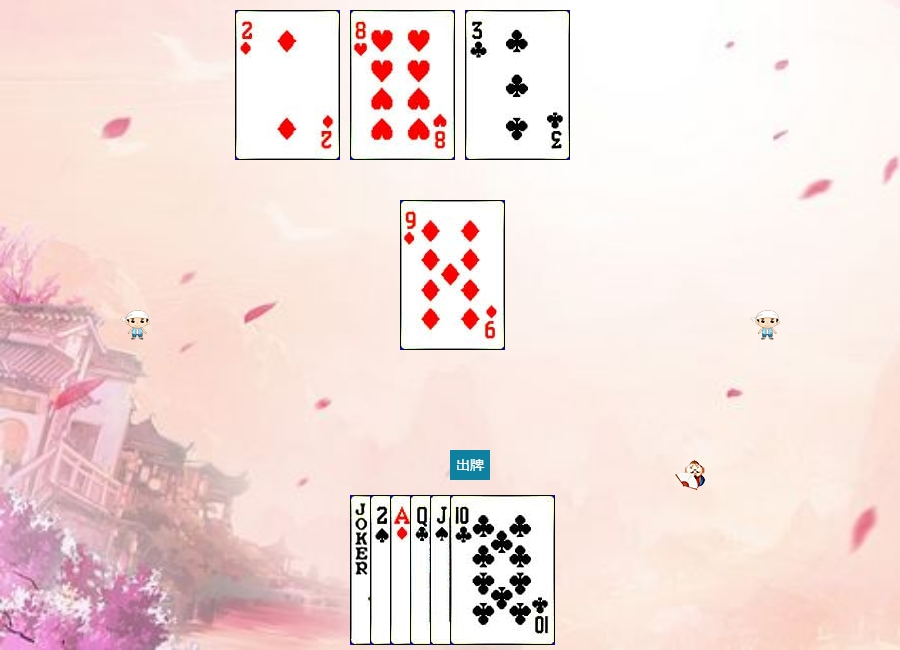10~2: (450, 495, 555, 645)
11~4: (430, 495, 535, 645)
12~2: (410, 495, 515, 645)
14~1: (390, 495, 495, 645)
15~1: (235, 10, 340, 160)
15~4: (370, 495, 475, 645)
17~3: (350, 495, 455, 645)
3~2: (465, 10, 570, 160)
8~3: (350, 10, 455, 160)
9~1: (400, 200, 505, 350)
